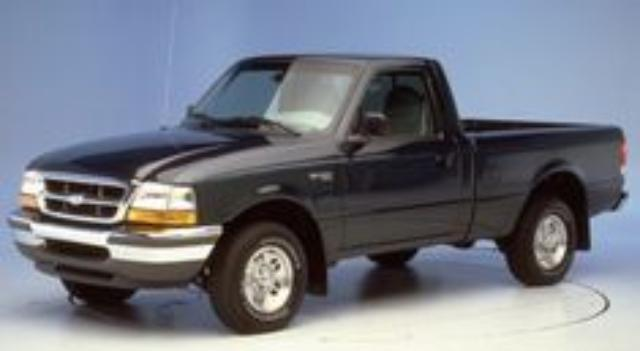pickup-truck: (7, 52, 630, 335)
